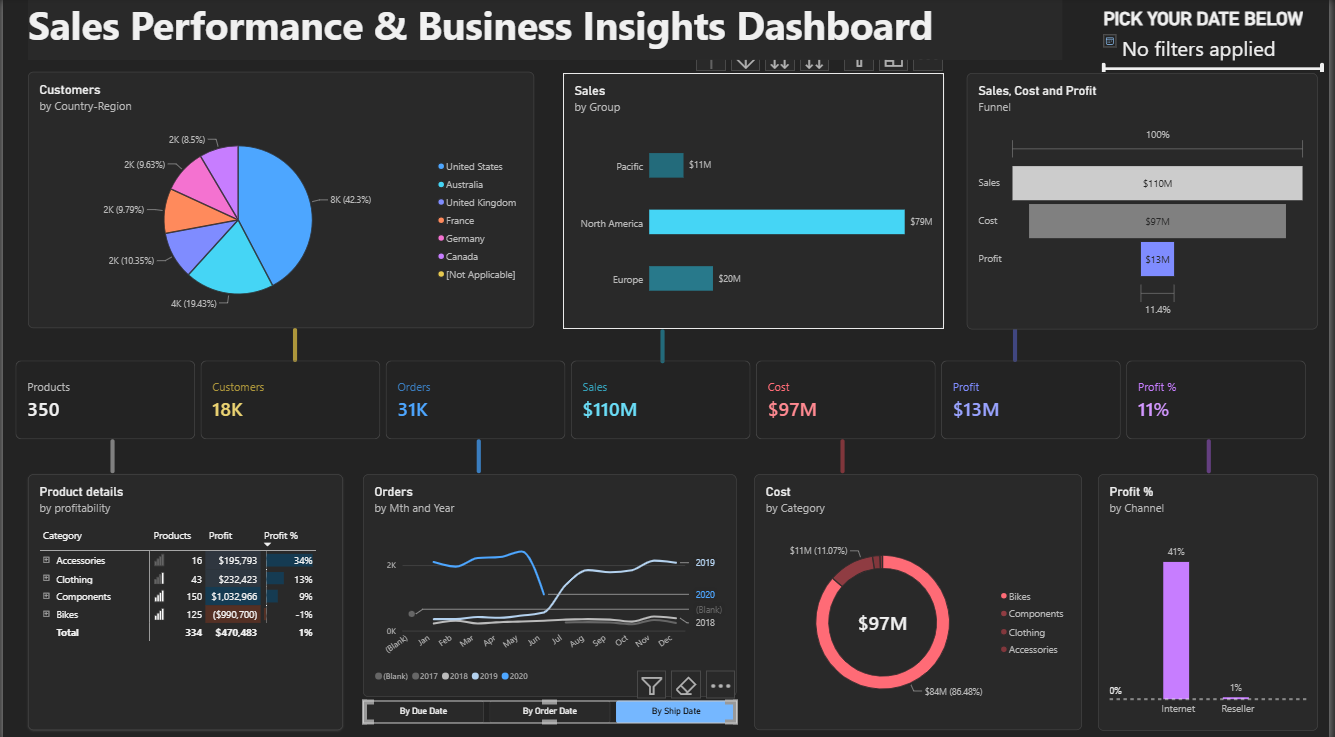

The page's visual inventory and layout, read from the dashboard file:
{"tool":"powerbi","page":{"name":"Overview","canvas":[1920,1080],"ordinal":0},"visuals":[{"type":"shape","box":[116.7,639.6,85.5,49.2],"z":0},{"type":"shape","box":[379.2,477.1,85.5,49.2],"z":1000},{"type":"shape","box":[645.8,639.6,85.5,49.2],"z":2000},{"type":"shape","box":[912.5,479.2,85.5,49.2],"z":3000},{"type":"shape","box":[1422.9,477.1,85.5,49.2],"z":4000},{"type":"shape","box":[1172.9,639.6,85.5,49.2],"z":5000},{"type":"shape","box":[1702.1,639.6,85.5,49.2],"z":6000},{"type":"slicer","fields":{"Values":["Date.Date"]},"box":[1585.3,14.5,334.8,92.3],"z":7000},{"type":"funnel","fields":{"Y":["Sales.Sales","Sales.Cost","Sales.Profit"]},"box":[1395.8,108.3,508.3,370.8],"z":8000},{"type":"clusteredBarChart","fields":{"Category":["Sales Territory.Group","Sales Territory.Region"],"Y":["Sales.Sales"]},"box":[810.4,108.3,551.9,370.5],"z":9000},{"type":"cardVisual","fields":{"Data":["Sales.Products","Sales.Customers","Sales.Orders","Sales.Sales","Sales.Cost","Sales.Profit","Sales.Profit Margin %"]},"box":[18.8,525,1868.8,114.6],"z":10000},{"type":"clusteredColumnChart","fields":{"Category":["Sales Order.Channel"],"Y":["Sales.Profit Margin %"]},"box":[1585.4,689.6,318.8,370.8],"z":11000},{"type":"donutChart","fields":{"Category":["Product.Category"],"Y":["Sales.Cost"]},"box":[1087.5,689.6,474.2,370.5],"z":12000},{"type":"advancedSlicerVisual","fields":{"Values":["Date Role.Date Role"]},"box":[520.8,1016.7,541.5,33.7],"z":13000},{"type":"lineChart","fields":{"Category":["Date.Mth"],"Series":["Date.Year"],"Y":["Sales.Orders"]},"box":[520.8,689.6,541,322.7],"z":14000},{"type":"pivotTable","title":"Product details","fields":{"Rows":["Product.Products.Category","Product.Products.Subcategory","Product.Products.Model","Product.Products.Product"],"Values":["Sales.Products","Sales.Profit","Sales.Profit Margin %"]},"box":[36.2,689.5,456,370.5],"z":15000},{"type":"pieChart","fields":{"Category":["Customer.Country-Region"],"Y":["Sales.Customers"]},"box":[35.4,106.2,733,371],"z":16000},{"type":"textbox","box":[35.4,0,1497.9,89.6],"z":17000}]}

Visuals, with their boxes in screenshot pixels (x1, y1, x2, y2), scaled from the page's 1920x1080 canvas onto the 1335x737 screenshot:
shape: [left=81, top=436, right=141, bottom=470]
shape: [left=264, top=326, right=323, bottom=359]
shape: [left=449, top=436, right=508, bottom=470]
shape: [left=634, top=327, right=694, bottom=361]
shape: [left=989, top=326, right=1049, bottom=359]
shape: [left=816, top=436, right=875, bottom=470]
shape: [left=1183, top=436, right=1243, bottom=470]
slicer - Date.Date: [left=1102, top=10, right=1334, bottom=73]
funnel - Sales.Sales x Sales.Cost: [left=971, top=74, right=1324, bottom=327]
clusteredBarChart - Sales Territory.Group x Sales Territory.Region: [left=563, top=74, right=947, bottom=327]
cardVisual - Sales.Products x Sales.Customers: [left=13, top=358, right=1312, bottom=436]
clusteredColumnChart - Sales Order.Channel x Sales.Profit Margin %: [left=1102, top=471, right=1324, bottom=724]
donutChart - Product.Category x Sales.Cost: [left=756, top=471, right=1086, bottom=723]
advancedSlicerVisual - Date Role.Date Role: [left=362, top=694, right=739, bottom=717]
lineChart - Date.Mth x Date.Year: [left=362, top=471, right=738, bottom=691]
"Product details" pivotTable: [left=25, top=471, right=342, bottom=723]
pieChart - Customer.Country-Region x Sales.Customers: [left=25, top=72, right=534, bottom=326]
textbox: [left=25, top=0, right=1066, bottom=61]
